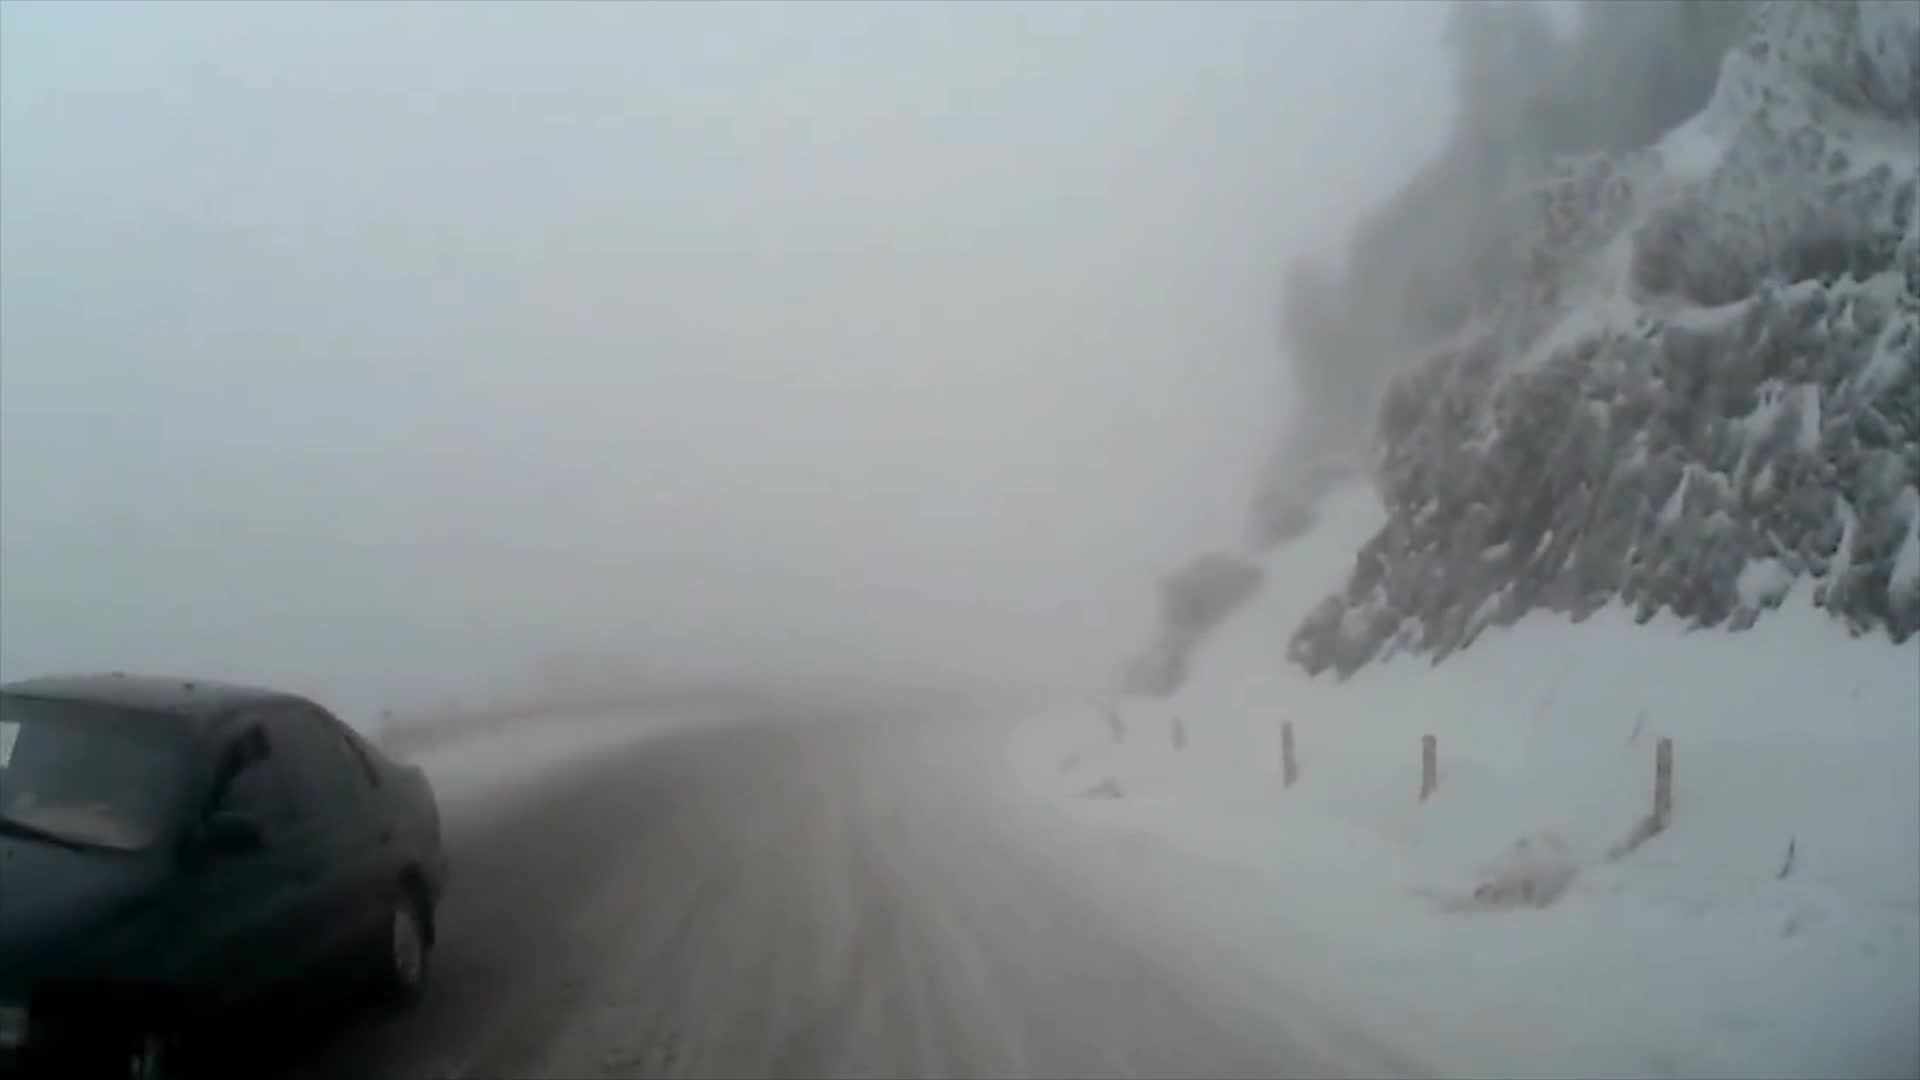vehicle: (0, 669, 450, 1080)
